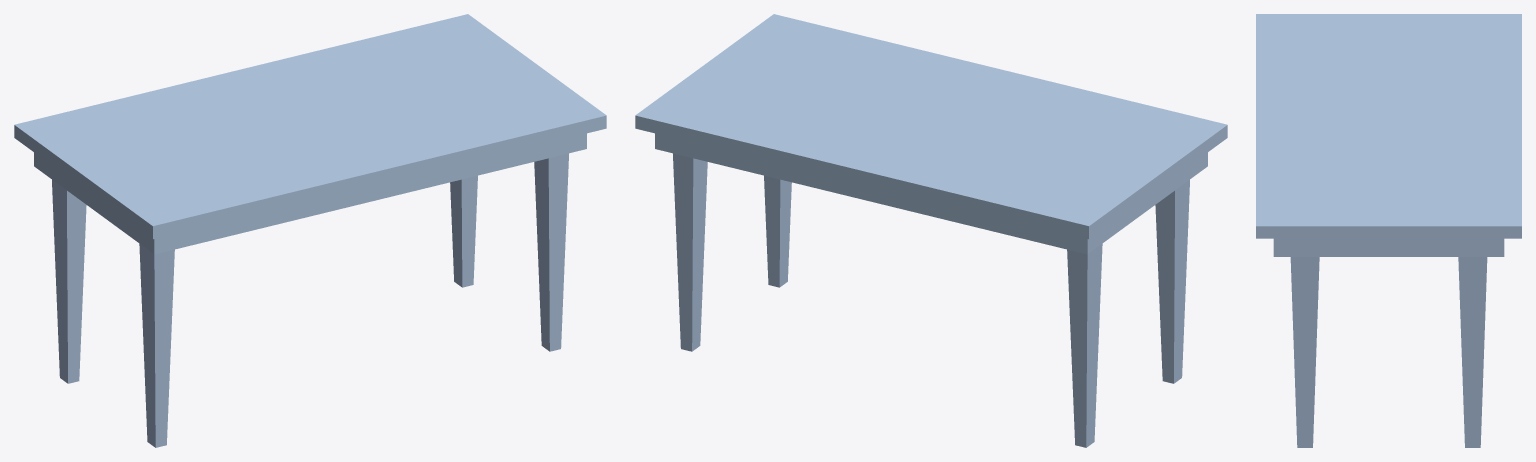
Rendered from 5 table.fbx.
3 renders of one model, left to right at view 1: azimuth 30°, elevation 25°; view 2: azimuth 150°, elevation 25°; view 3: azimuth 270°, elevation 25°, orthographic. The views are drawn at different scales.
Visible parts, largest first — view 1: 5 table; view 2: 5 table; view 3: 5 table.
Boxes of the visible parts, left/top/right/bottom form: 5 table: left=14, top=14, right=606, bottom=447; 5 table: left=635, top=14, right=1227, bottom=447; 5 table: left=1256, top=14, right=1521, bottom=447.
Size of the model in its own units: 83.63 by 42.85 by 44.25.
